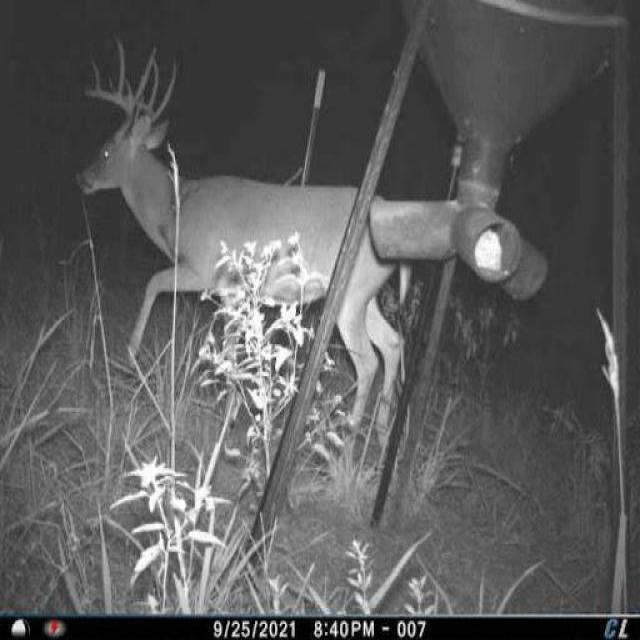deer: (71, 33, 424, 483)
